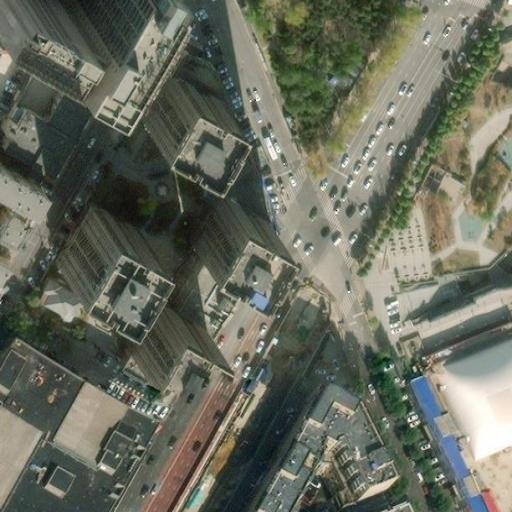building: (233, 393, 373, 512), (434, 330, 512, 453), (48, 204, 135, 296), (136, 56, 224, 144), (177, 186, 257, 267), (120, 300, 199, 379), (111, 349, 187, 391), (404, 368, 444, 421), (31, 275, 79, 319), (52, 0, 109, 34), (86, 15, 125, 60), (31, 23, 81, 48), (41, 0, 58, 12)
